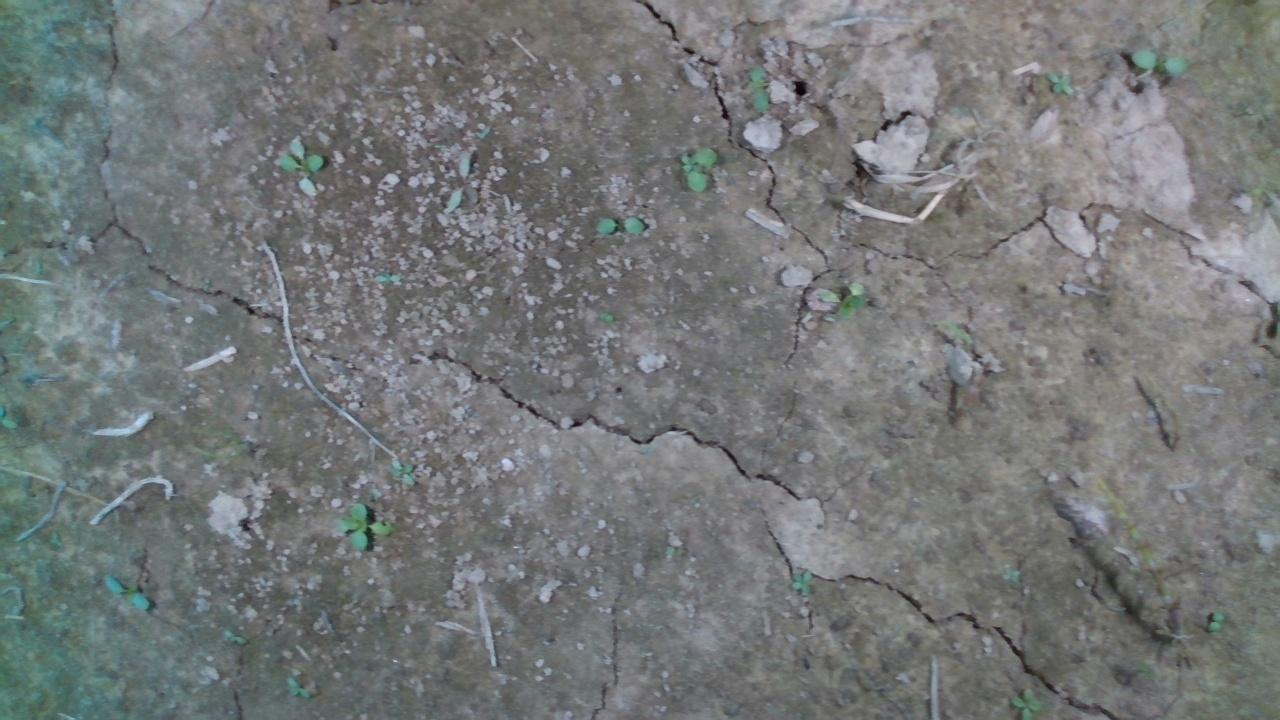weed: (335, 497, 393, 557), (1127, 41, 1189, 82), (276, 136, 325, 180), (674, 145, 714, 195), (102, 575, 150, 609), (595, 213, 647, 237), (827, 281, 857, 320), (786, 567, 822, 595), (997, 562, 1025, 587), (1049, 68, 1074, 94)
